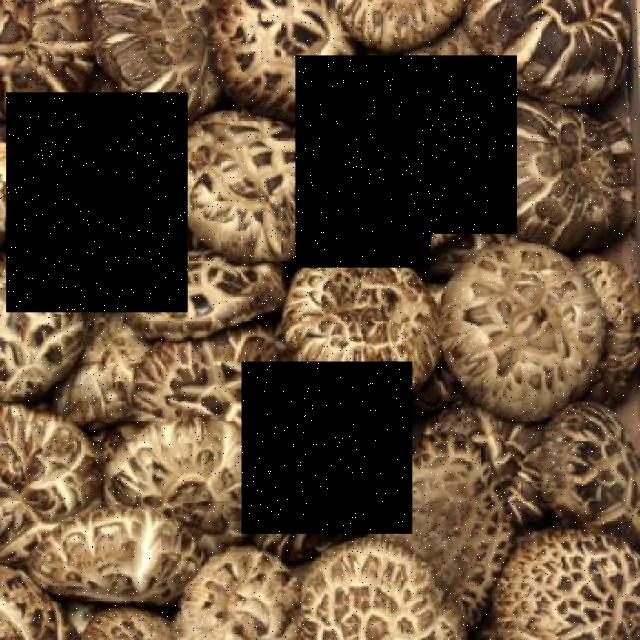Mushroom: (295, 56, 517, 267), (6, 92, 188, 312), (430, 234, 594, 420), (242, 361, 412, 534)
